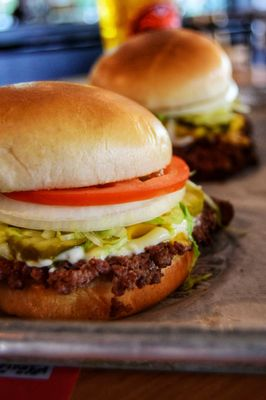soup: (1, 81, 228, 322), (89, 28, 255, 181)
